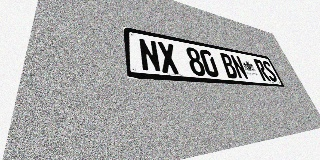0: (198, 49, 220, 77)
8: (185, 46, 207, 76)
B: (219, 52, 239, 79)
N: (138, 38, 162, 73), (229, 54, 249, 80)
R: (253, 59, 271, 81)
S: (261, 60, 279, 82)
X: (157, 41, 180, 74)
